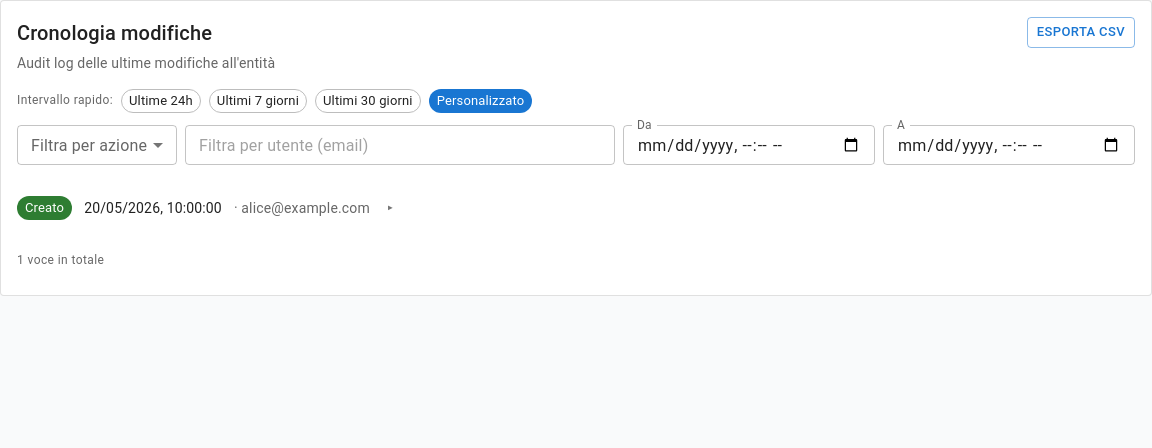
Test case: AuditHistoryPanel › expands payload on toggle click
Check: the text "Creato" is shown, box [25, 200, 64, 215]
Click the button named "Mostra dettagli payload" at (391, 208), box [382, 193, 399, 223]
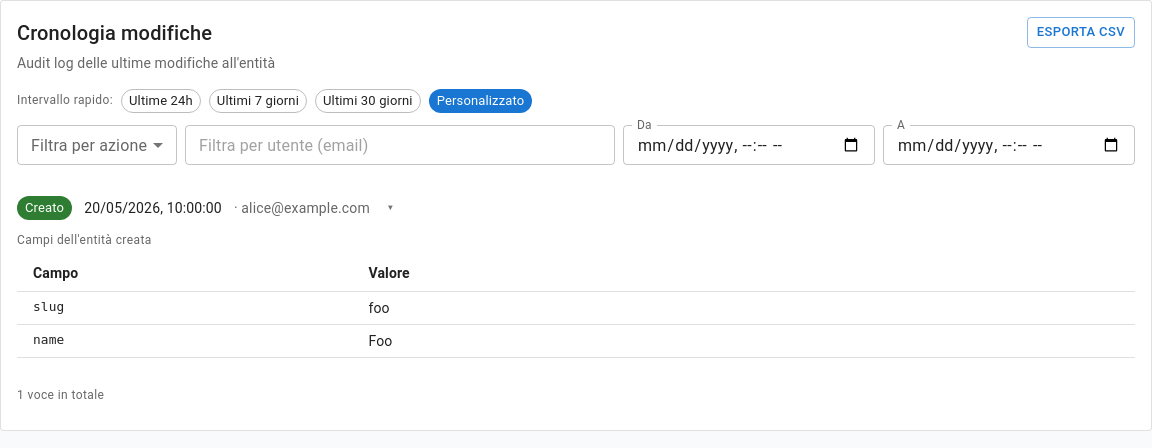
Check: the text "Campi dell'entità creata" is shown, box [17, 233, 152, 247]
Check: the text "slug" is shown, box [17, 292, 352, 325]
Check: the text "foo" is shown, box [368, 300, 390, 316]
